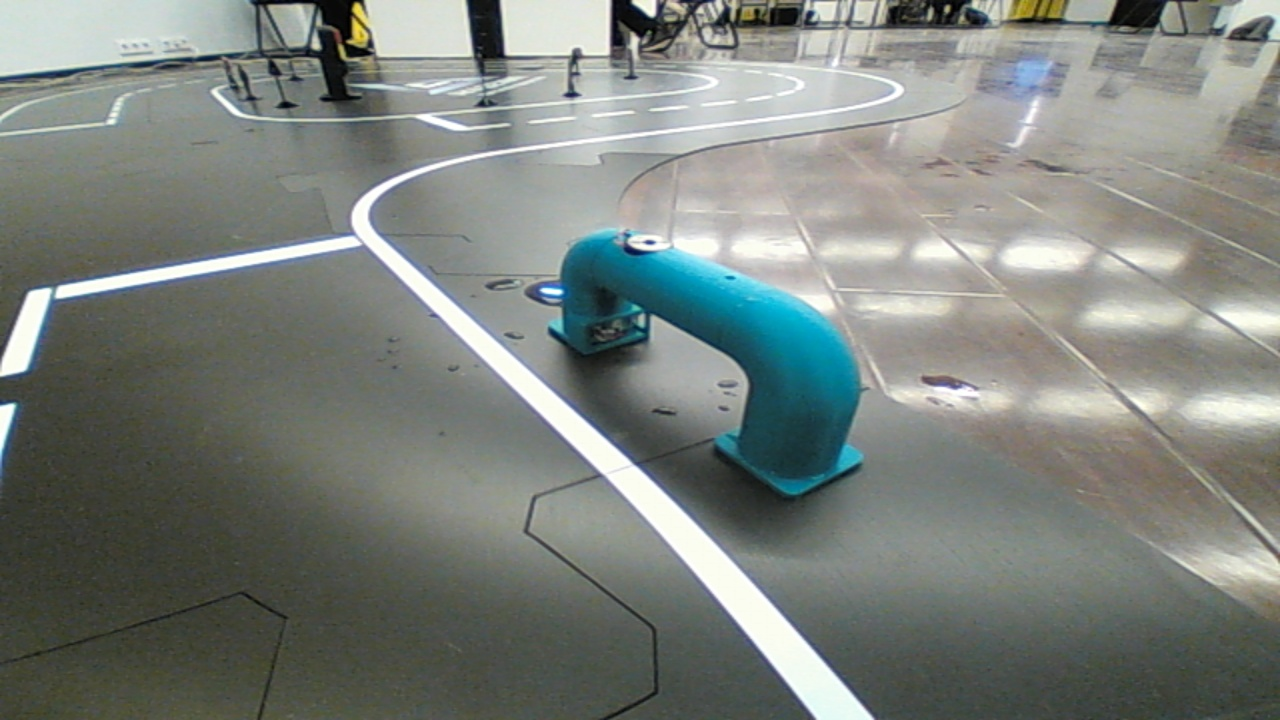Pedestrian crossing: (542, 199, 872, 512)
